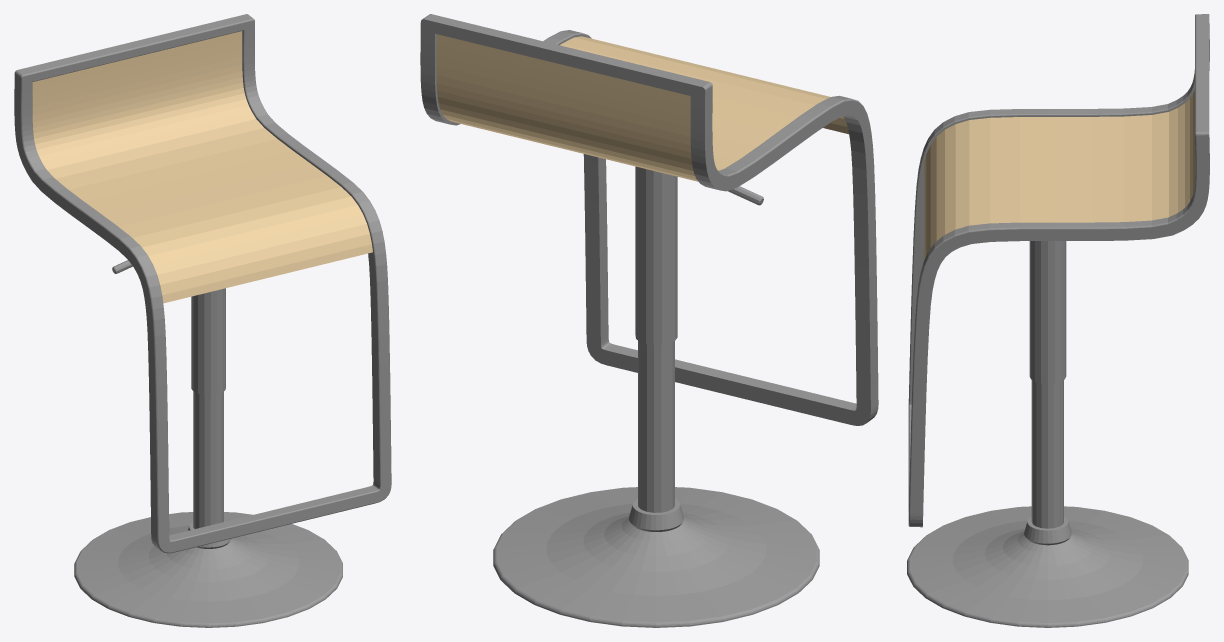
The model's file is chair-by-cmht-oculus-0ka4uFTdYOr.glb.
3 renders of one model, left to right at view 1: azimuth 30°, elevation 25°; view 2: azimuth 150°, elevation 25°; view 3: azimuth 270°, elevation 25°, orthographic. The views are drawn at different scales.
Parts seen in each view (by area): view 1: Node; view 2: Node; view 3: Node.
Boxes of the visible parts, left/top/right/bottom form: Node: left=14, top=14, right=391, bottom=627; Node: left=420, top=14, right=878, bottom=627; Node: left=907, top=14, right=1209, bottom=627.
Bounding box in the file's own units: 14.01 × 27.01 × 14.97.
